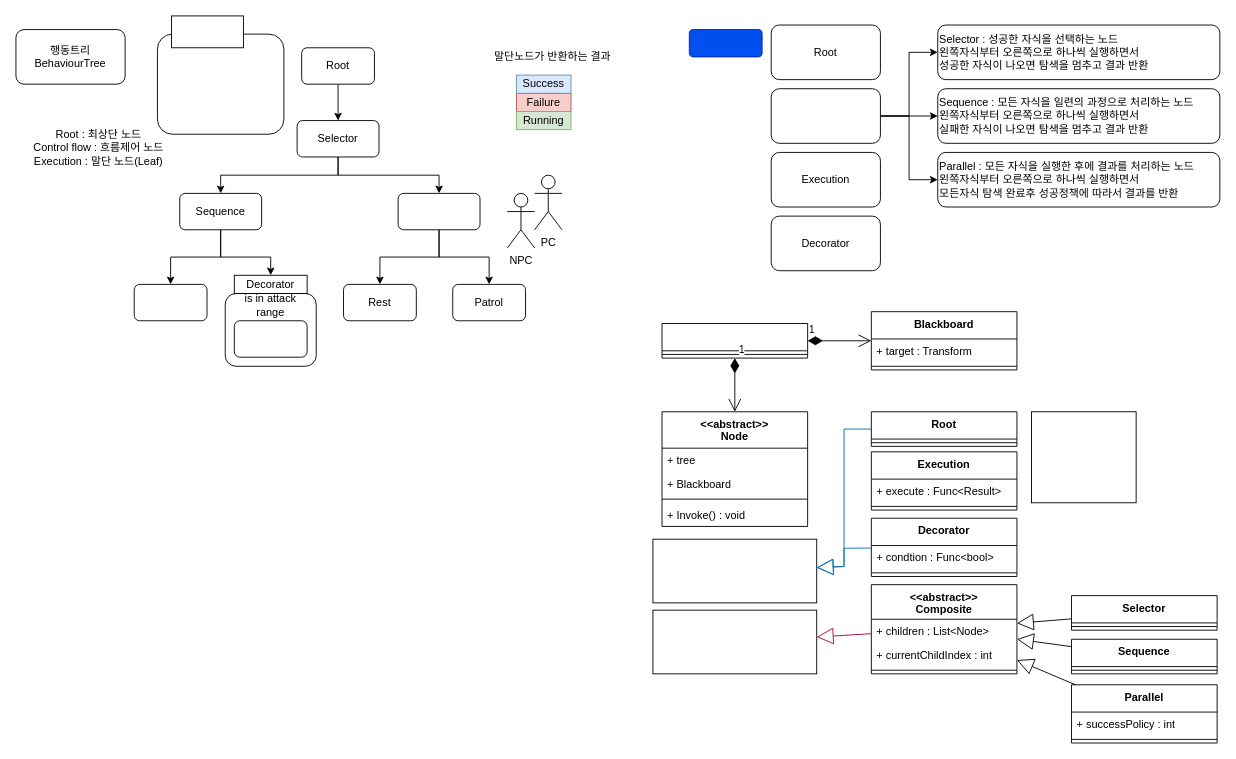
Some shapes in this 1236 by 759 pixel diagram are drawn without their labels. Here are the shapes that lost their labels. From the top down, the centre of each, then its label:
(x=207, y=31): 칠판
(x=725, y=43): 노드종류
(x=220, y=83): 목표는 플레이어
(x=825, y=115): Composite
(x=438, y=211): Random Selector
(x=170, y=302): Seek
(x=270, y=338): Attack
(x=734, y=340): BehaviourTree
(x=1083, y=457): «enum» Result Success Failure Running
(x=734, y=570): «Interface» IParentOfChild {get; set;} child : Node
(x=734, y=641): «Interface» IParentOfChildren {get; set;} childern : List<Node>
